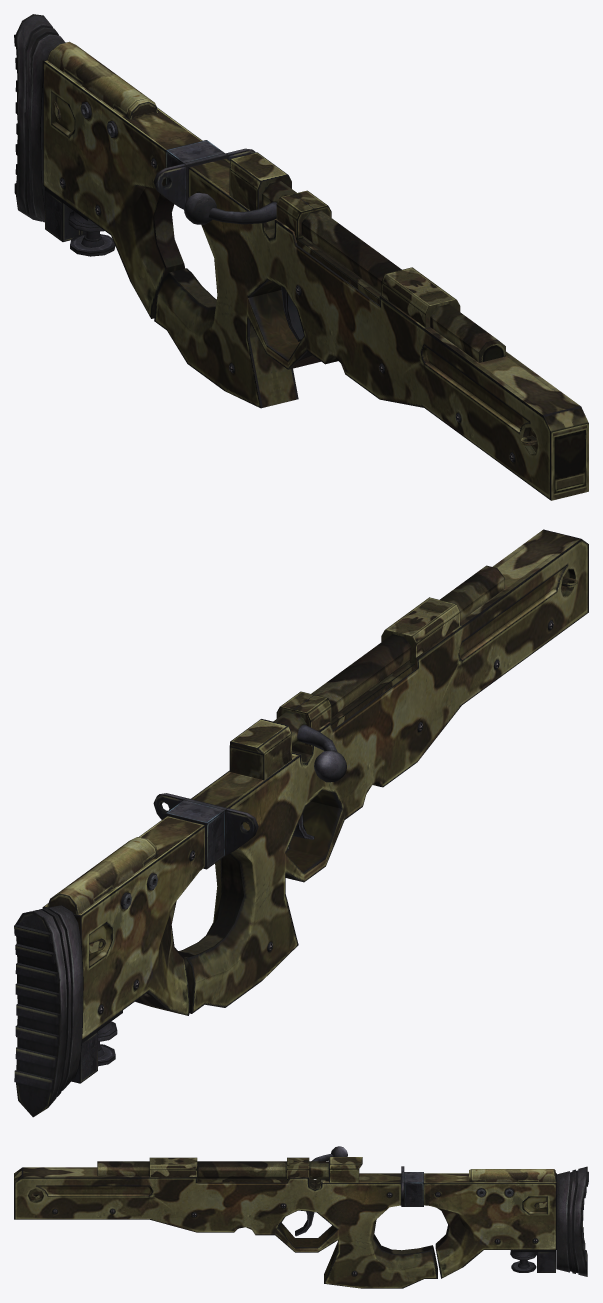
Rendered from SniperRifle_Warfare.FBX.
3 views of the same model, one above another, from view 1: azimuth 30°, elevation 25°; view 2: azimuth 150°, elevation 25°; view 3: azimuth 270°, elevation 25° (orthographic). The views are drawn at different scales.
Visible parts, largest first — view 1: mesh_body; view 2: mesh_body; view 3: mesh_body.
Boxes of the visible parts, x1,y1,x2,y2 form: mesh_body: [14, 14, 588, 500]; mesh_body: [14, 529, 588, 1117]; mesh_body: [14, 1146, 588, 1288].
Bounding box in the file's own units: 0.1272 × 0.215 × 0.9076.
